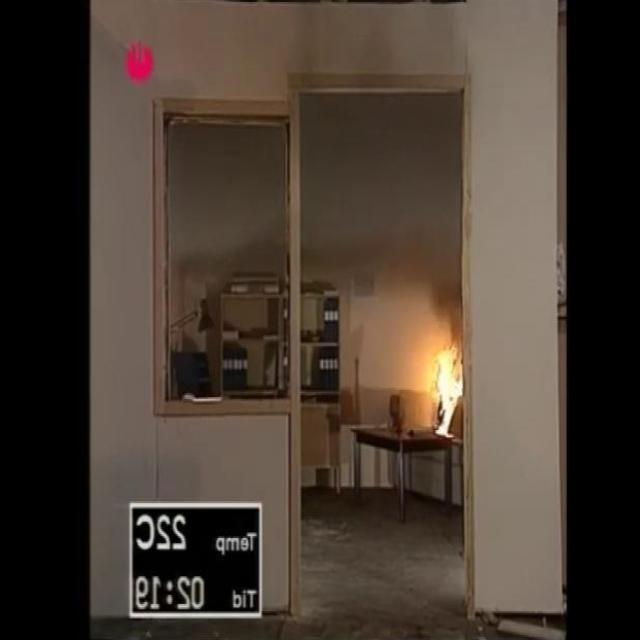smoke: (428, 336, 467, 444)
